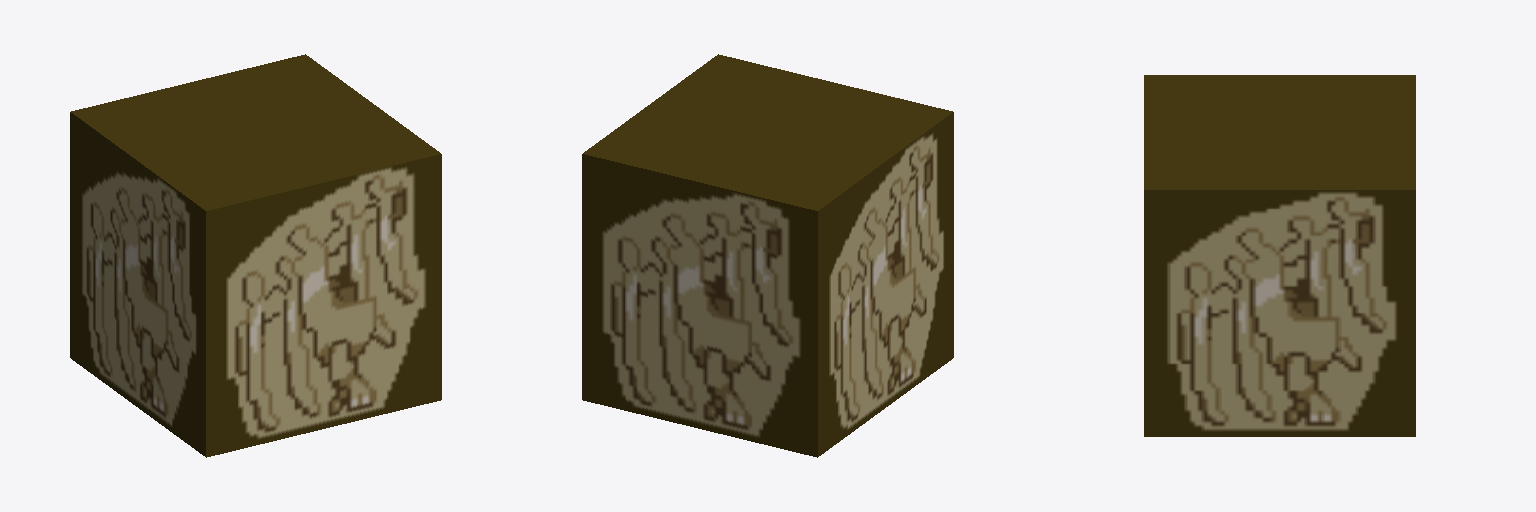
3 renders of one model, left to right at view 1: azimuth 30°, elevation 25°; view 2: azimuth 150°, elevation 25°; view 3: azimuth 270°, elevation 25°, orthographic.
Visible parts, largest first — view 1: Cube; view 2: Cube; view 3: Cube.
Boxes of the visible parts, x1,y1,x2,y2 form: Cube: [70, 54, 441, 457]; Cube: [582, 54, 953, 457]; Cube: [1144, 75, 1415, 436].
Bounding box in the file's own units: 2 × 2 × 2.
1 materials, 1 textured.